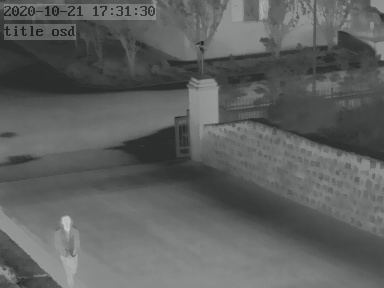person: (56, 212, 79, 286)
